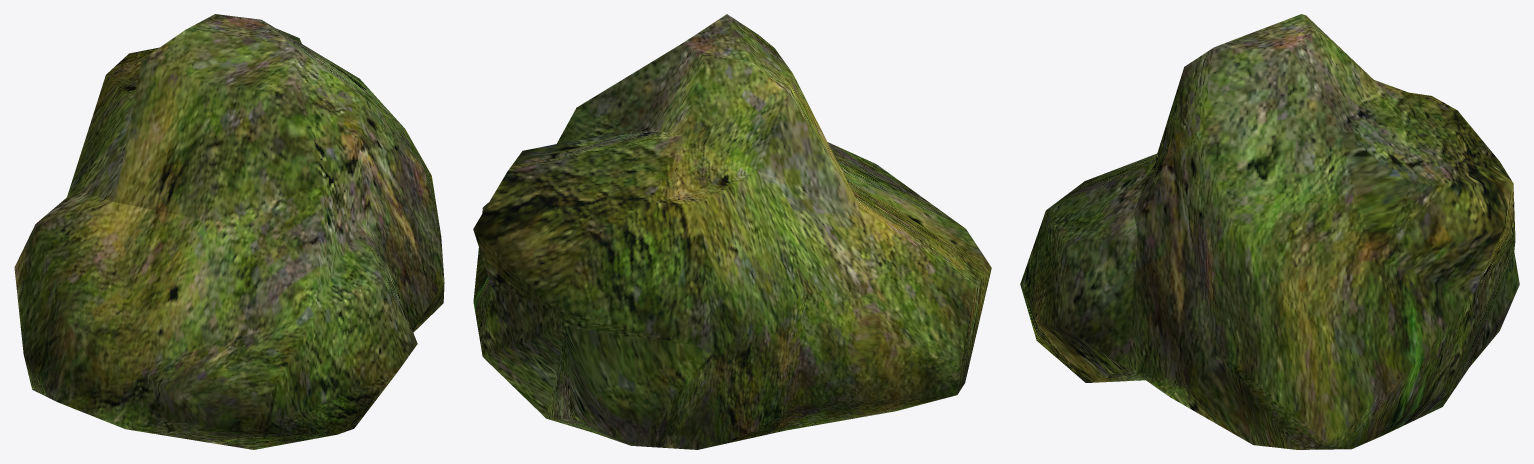
File: rock_endr_mossyrock_sm_a1_l0.fbx
The picture shows the model from 3 angles, left to right: view 1: azimuth 30°, elevation 25°; view 2: azimuth 150°, elevation 25°; view 3: azimuth 270°, elevation 25°; orthographic projection. The views are drawn at different scales.
Parts seen in each view (by area): view 1: mesh_node; view 2: mesh_node; view 3: mesh_node.
Part boxes in pixels (bbox=[...]): mesh_node: bbox=[14, 14, 444, 449]; mesh_node: bbox=[473, 14, 991, 449]; mesh_node: bbox=[1020, 14, 1519, 449].
Size of the model in its own units: 1.05 by 0.8318 by 1.04.
